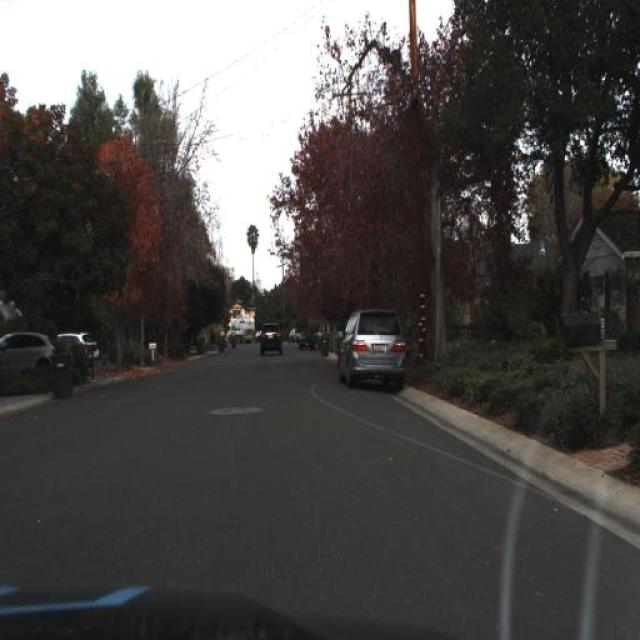car: (335, 308, 406, 388), (1, 330, 58, 386), (69, 324, 101, 370), (253, 320, 286, 360), (298, 328, 314, 348)
